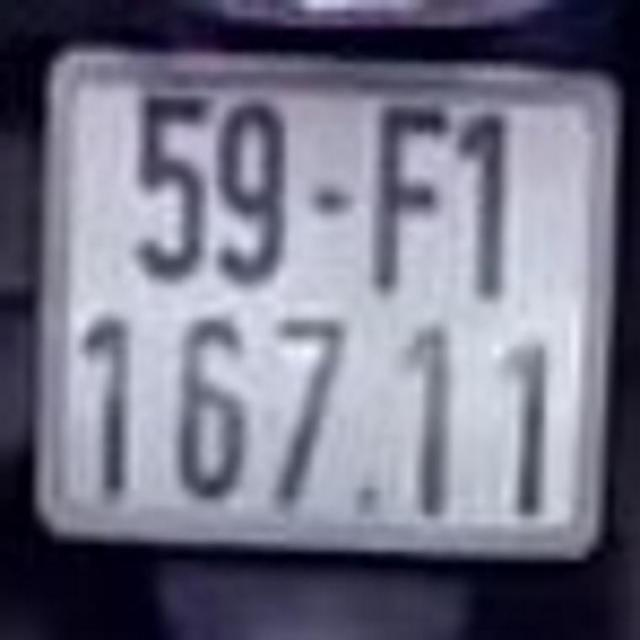1: (74, 301, 145, 494), (400, 322, 462, 509), (459, 108, 513, 302), (501, 328, 558, 510)
5: (141, 91, 207, 287)
6: (176, 292, 248, 495)
7: (270, 313, 352, 506)
9: (216, 94, 290, 284)
F: (367, 103, 449, 299)
